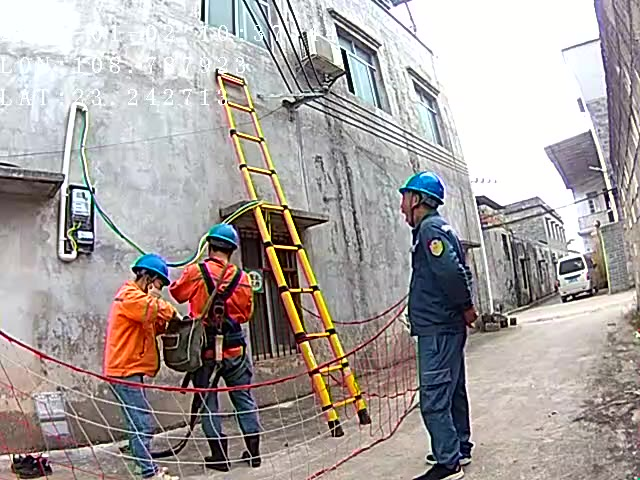downcloth: (112, 376, 159, 471)
downsuit: (415, 336, 472, 462), (194, 357, 262, 459)
halt: (397, 172, 446, 222), (199, 223, 241, 269), (131, 254, 172, 292)
hand: (464, 306, 477, 322)
inear: (406, 192, 424, 215), (141, 272, 155, 290)
person: (392, 170, 482, 477), (181, 221, 265, 469), (105, 252, 180, 479)
safebelt: (173, 264, 242, 457)
shoe: (201, 435, 231, 469), (240, 432, 259, 462)
sleeve: (426, 236, 444, 256)
upsuit: (407, 217, 474, 326)
worksign: (244, 267, 266, 294)
yupsuit: (106, 283, 174, 375), (186, 262, 249, 337)
